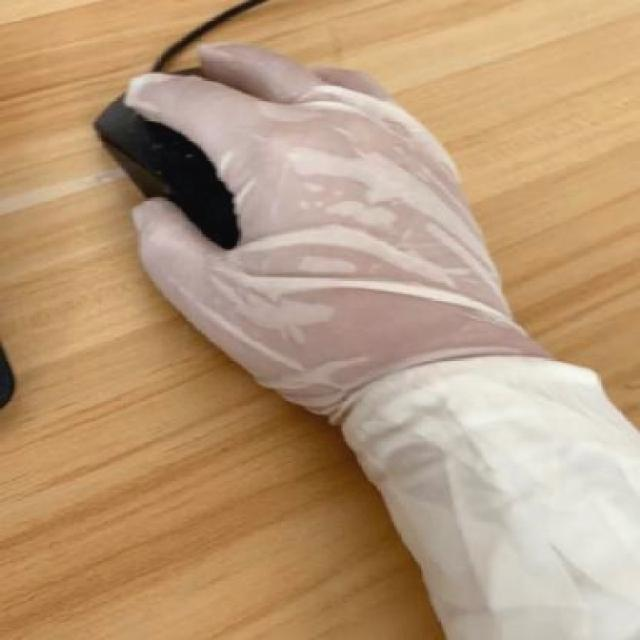hand_glove: (118, 40, 520, 391)
